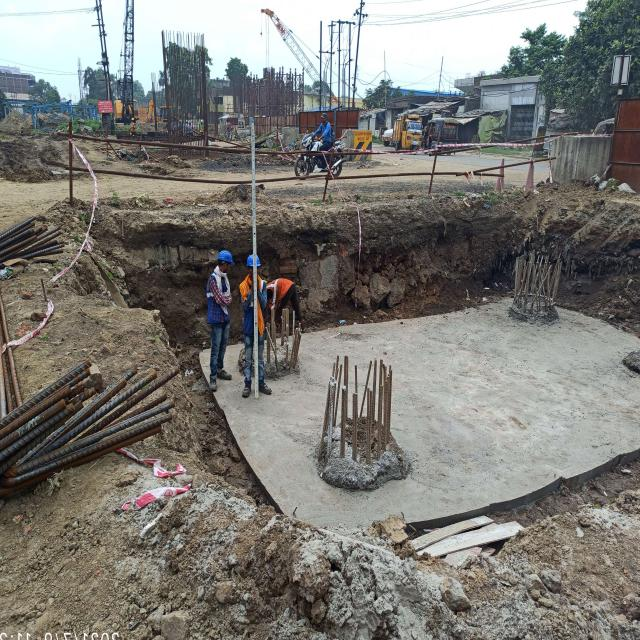cement: (215, 299, 640, 526)
red-sand: (13, 172, 265, 505), (256, 176, 640, 338), (0, 453, 180, 640), (499, 456, 640, 640), (0, 169, 94, 274)
